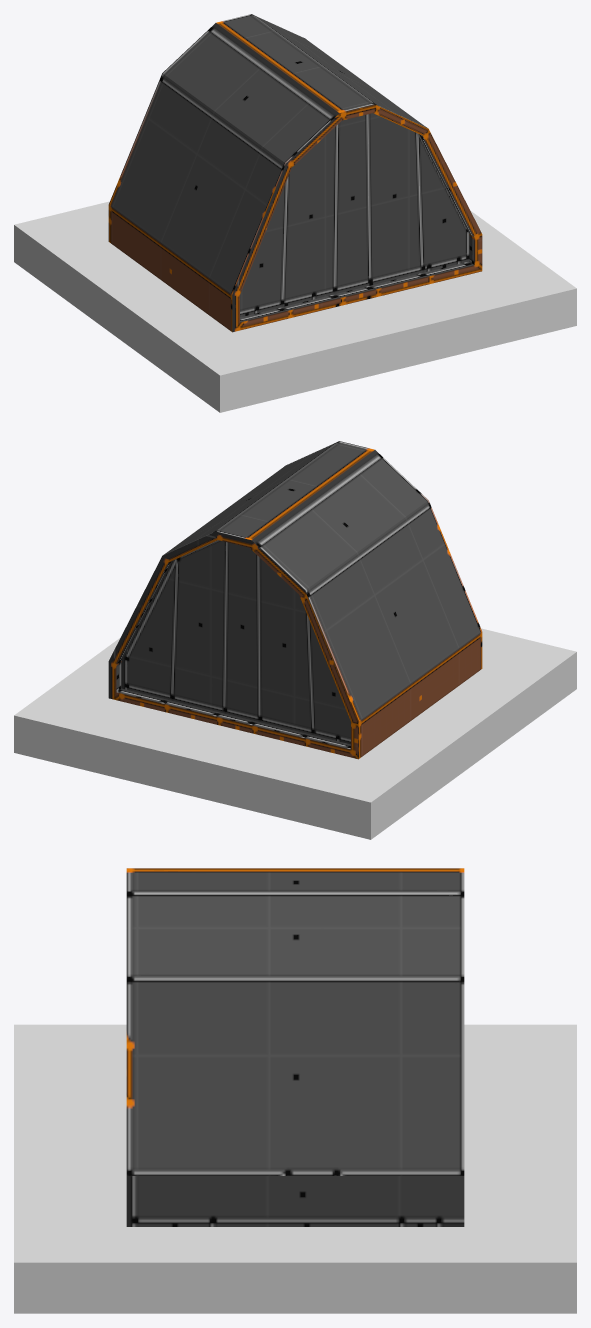
File: Basic_Barn2_texture2.glb
3 views of the same model, one above another, from view 1: azimuth 30°, elevation 25°; view 2: azimuth 150°, elevation 25°; view 3: azimuth 270°, elevation 25° (orthographic). The views are drawn at different scales.
Parts seen in each view (by area): view 1: Cube.001, Cube; view 2: Cube.001, Cube; view 3: Cube.001, Cube.
Boxes of the visible parts, x1,y1,x2,y2 form: Cube.001: [108, 14, 482, 332]; Cube: [14, 201, 576, 412]; Cube.001: [108, 441, 482, 759]; Cube: [14, 628, 576, 839]; Cube.001: [126, 868, 464, 1226]; Cube: [14, 1024, 576, 1313].
Size of the model in its own units: 20 by 12.33 by 20.
Materials: 2 (1 with a texture image).
